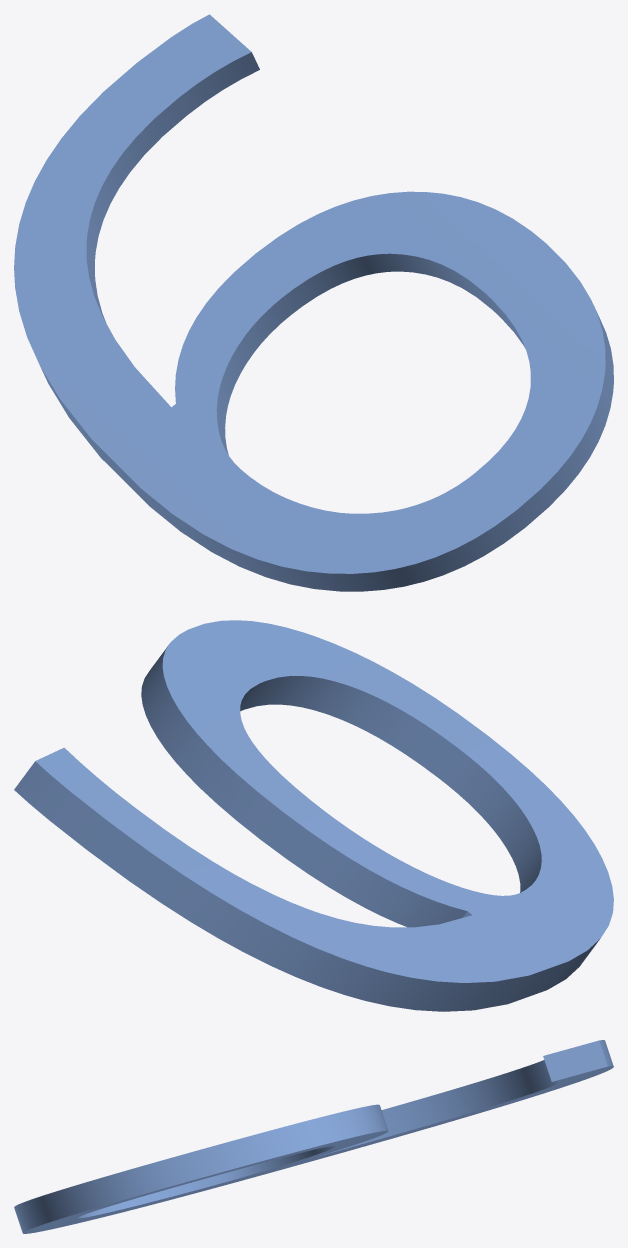
Rendered from New_Number_6.gltf.
3 views of the same model, one above another, from view 1: azimuth 30°, elevation 25°; view 2: azimuth 150°, elevation 25°; view 3: azimuth 270°, elevation 25° (orthographic). The views are drawn at different scales.
Parts seen in each view (by area): view 1: Part 726; view 2: Part 726; view 3: Part 726.
Boxes of the visible parts, x1,y1,x2,y2 form: Part 726: (14, 14, 613, 591); Part 726: (14, 620, 613, 1011); Part 726: (14, 1040, 613, 1233).
Bounding box in the file's own units: 0.00348 × 0.0026 × 0.00554.
